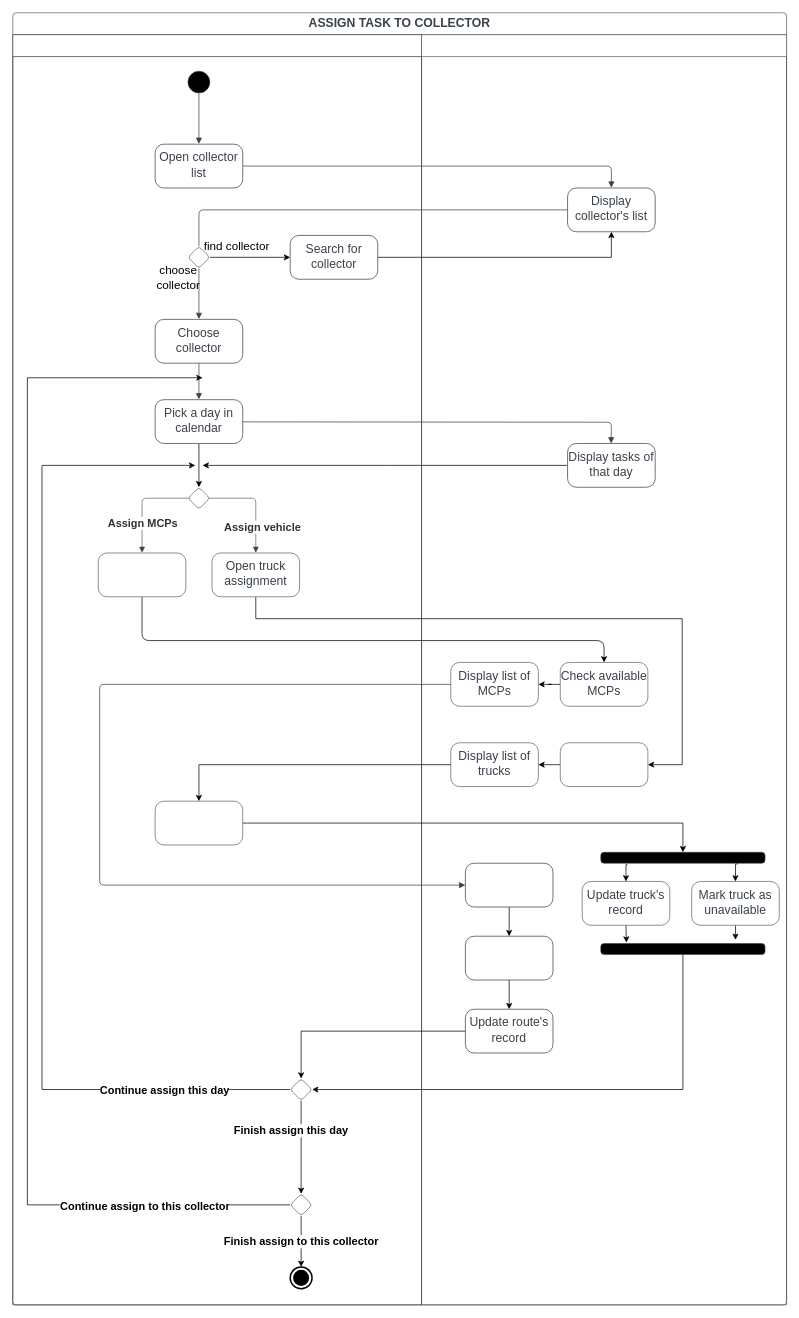
Some shapes in this 799 by 1318 pixel diagram are drawn without their labels. Each missing label, with the box of its shape:
Back Officer: (12, 34, 422, 1305)
Check available truck: (560, 742, 648, 787)
Choose truck: (154, 801, 243, 845)
Create optimal route: (465, 935, 553, 980)
Open MCP assignment: (98, 552, 186, 597)
System: (421, 34, 787, 1305)
Update MCP's record: (465, 862, 553, 907)
